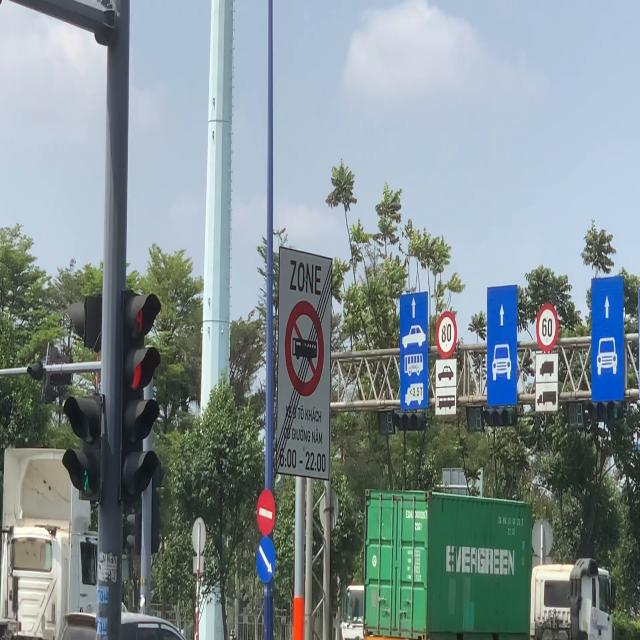Cam con lai: (284, 300, 326, 398)
Cam nguoc chieu: (256, 488, 276, 537)
Hieu lenh: (256, 536, 276, 584)
Toc do toi da: (535, 303, 558, 352), (436, 312, 458, 358)
